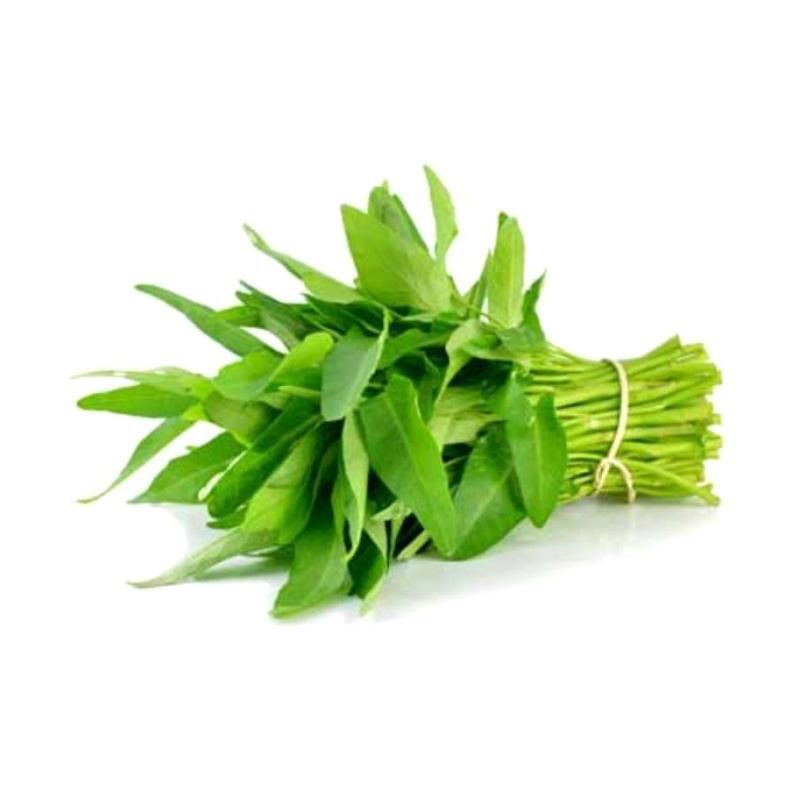Kangkung: (67, 202, 647, 553)
